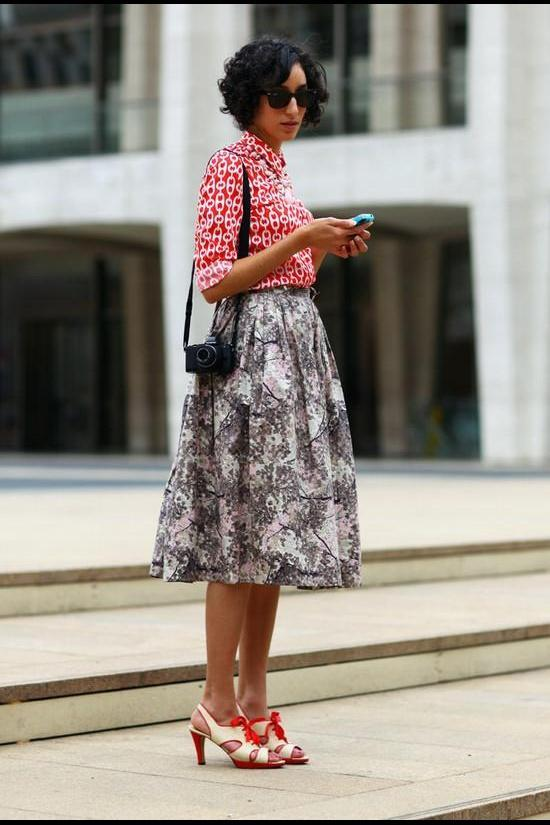shirt: (195, 133, 316, 295)
skirt: (150, 288, 365, 590)
